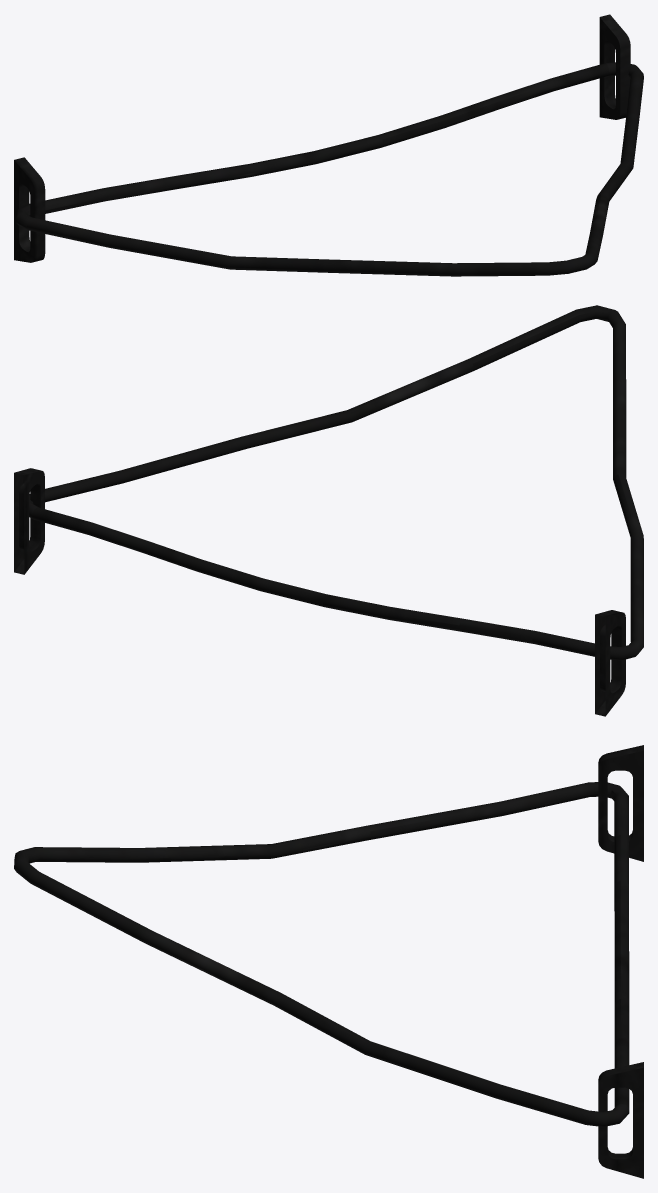
The model's file is Dop.FBX.
3 renders of one model, top to bottom at view 1: azimuth 30°, elevation 25°; view 2: azimuth 150°, elevation 25°; view 3: azimuth 270°, elevation 25°, orthographic. The views are drawn at different scales.
Visible parts, largest first — view 1: Dop_2, Dop_1; view 2: Dop_2, Dop_1; view 3: Dop_2, Dop_1.
Part boxes in pixels (x1,y1,x2,y2): Dop_2: (16, 62, 643, 276); Dop_1: (14, 14, 630, 262); Dop_2: (29, 305, 643, 660); Dop_1: (14, 468, 625, 716); Dop_2: (14, 782, 629, 1126); Dop_1: (598, 745, 643, 1178).
Bounding box in the file's own units: 1129 × 239 × 893.
Materials: 1 (1 with a texture image).
